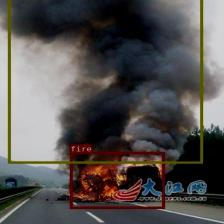fire: (70, 152, 164, 208)
smoke: (7, 0, 202, 163)
